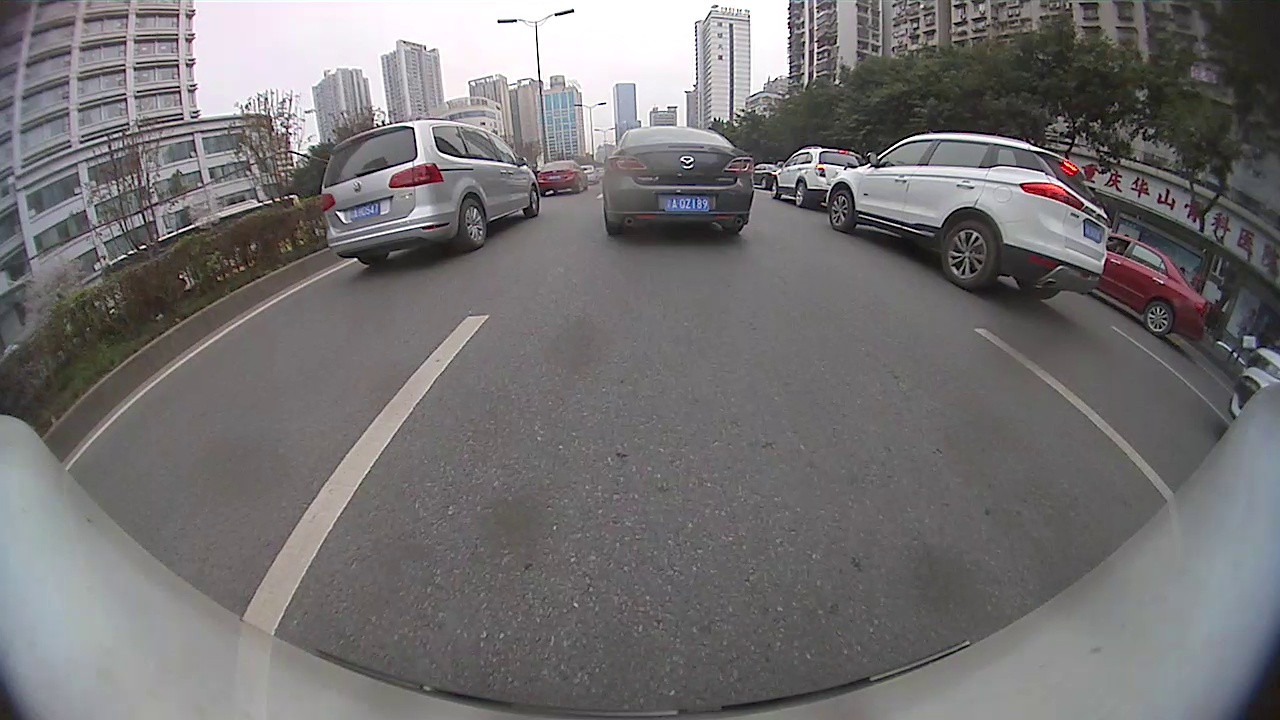car: (826, 129, 1109, 302), (320, 117, 542, 267), (599, 124, 752, 240), (1094, 230, 1211, 336), (770, 143, 865, 206), (1227, 346, 1278, 422), (536, 157, 586, 196), (747, 160, 780, 190), (576, 163, 601, 188)
front: (829, 189, 855, 232), (522, 182, 541, 218), (770, 177, 777, 197)
rear: (943, 220, 997, 291), (458, 197, 488, 249), (1142, 300, 1172, 334), (794, 179, 808, 208)
